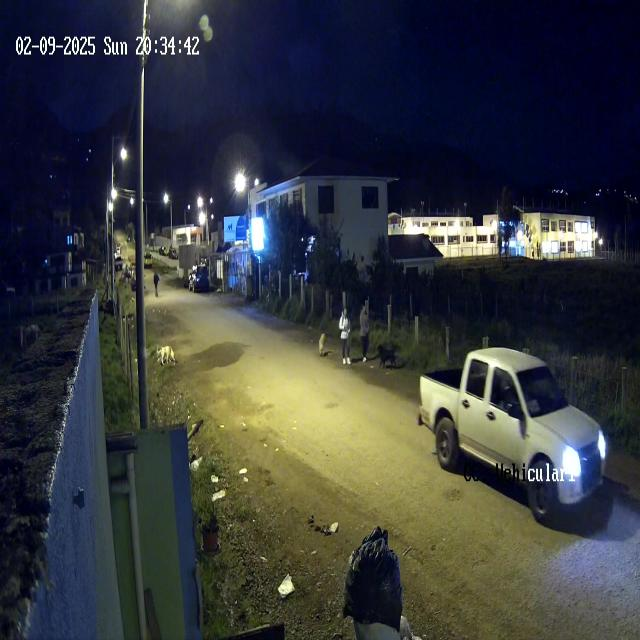CMT: (417, 344, 609, 528)
